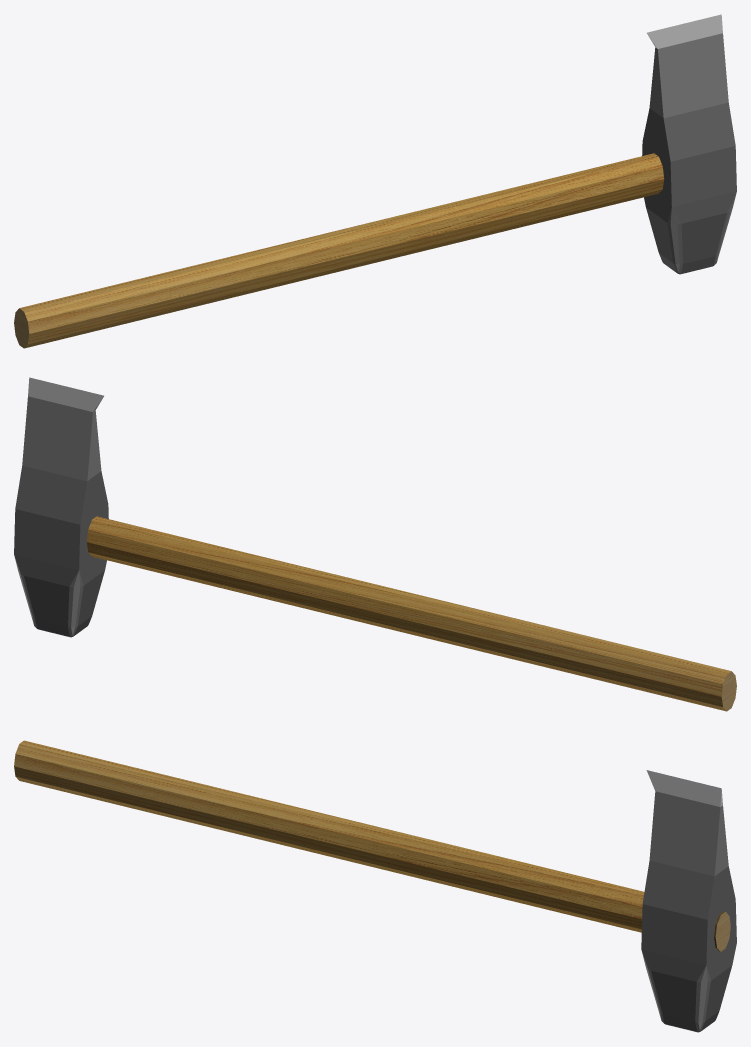
The model's file is SplittingMaul.fbx.
3 views of the same model, one above another, from view 1: azimuth 30°, elevation 25°; view 2: azimuth 150°, elevation 25°; view 3: azimuth 330°, elevation 25° (orthographic).
Visible parts, largest first — view 1: ZomboidSplittingMaul; view 2: ZomboidSplittingMaul; view 3: ZomboidSplittingMaul.
Boxes of the visible parts, box(x1,y1,x2,y2) form: ZomboidSplittingMaul: box(14, 14, 736, 348); ZomboidSplittingMaul: box(14, 377, 736, 711); ZomboidSplittingMaul: box(14, 740, 736, 1032).
Bounding box in the file's own units: 0.701 × 0.2319 × 0.0529.
